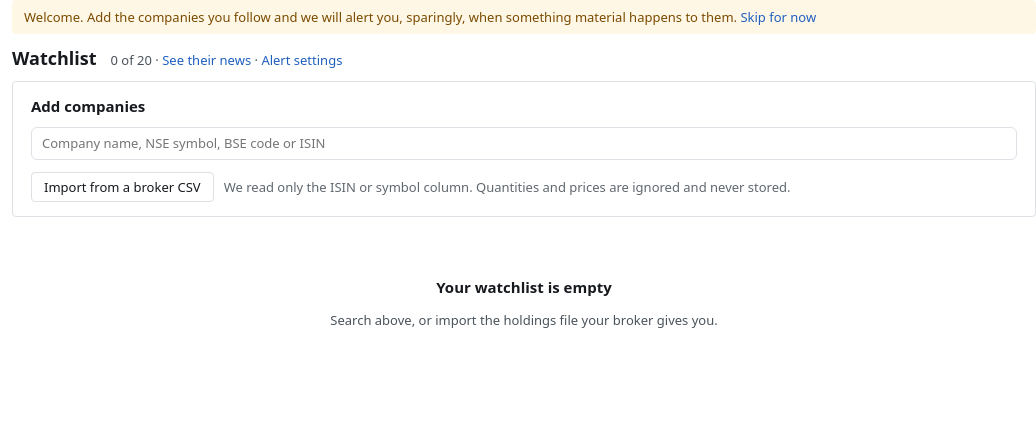
Test: watchlist (PRD-003 §2) › search and one-click add; the limit shows an upgrade prompt, nothing silently dropped
The image size is (1036, 444).
In the search field named "Find a company to add": (524, 144) [31, 127, 1017, 160], type "kes"
Wait 200 ms
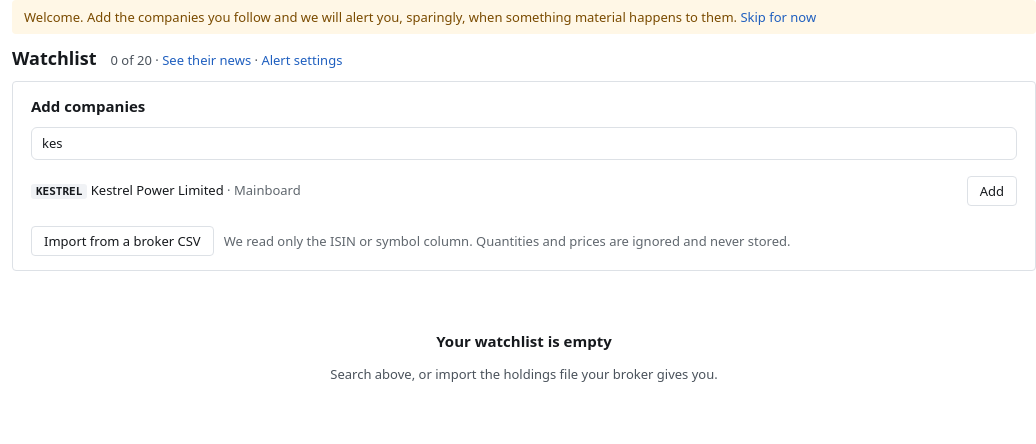
Click the button "Add": click(992, 191) [967, 176, 1017, 206]
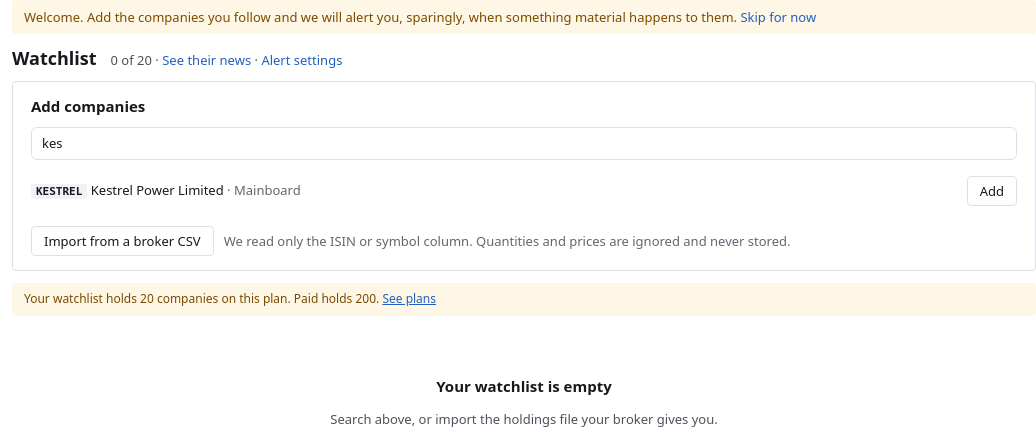
Result: the message shows "Paid holds 200" at [24, 290, 379, 307]
